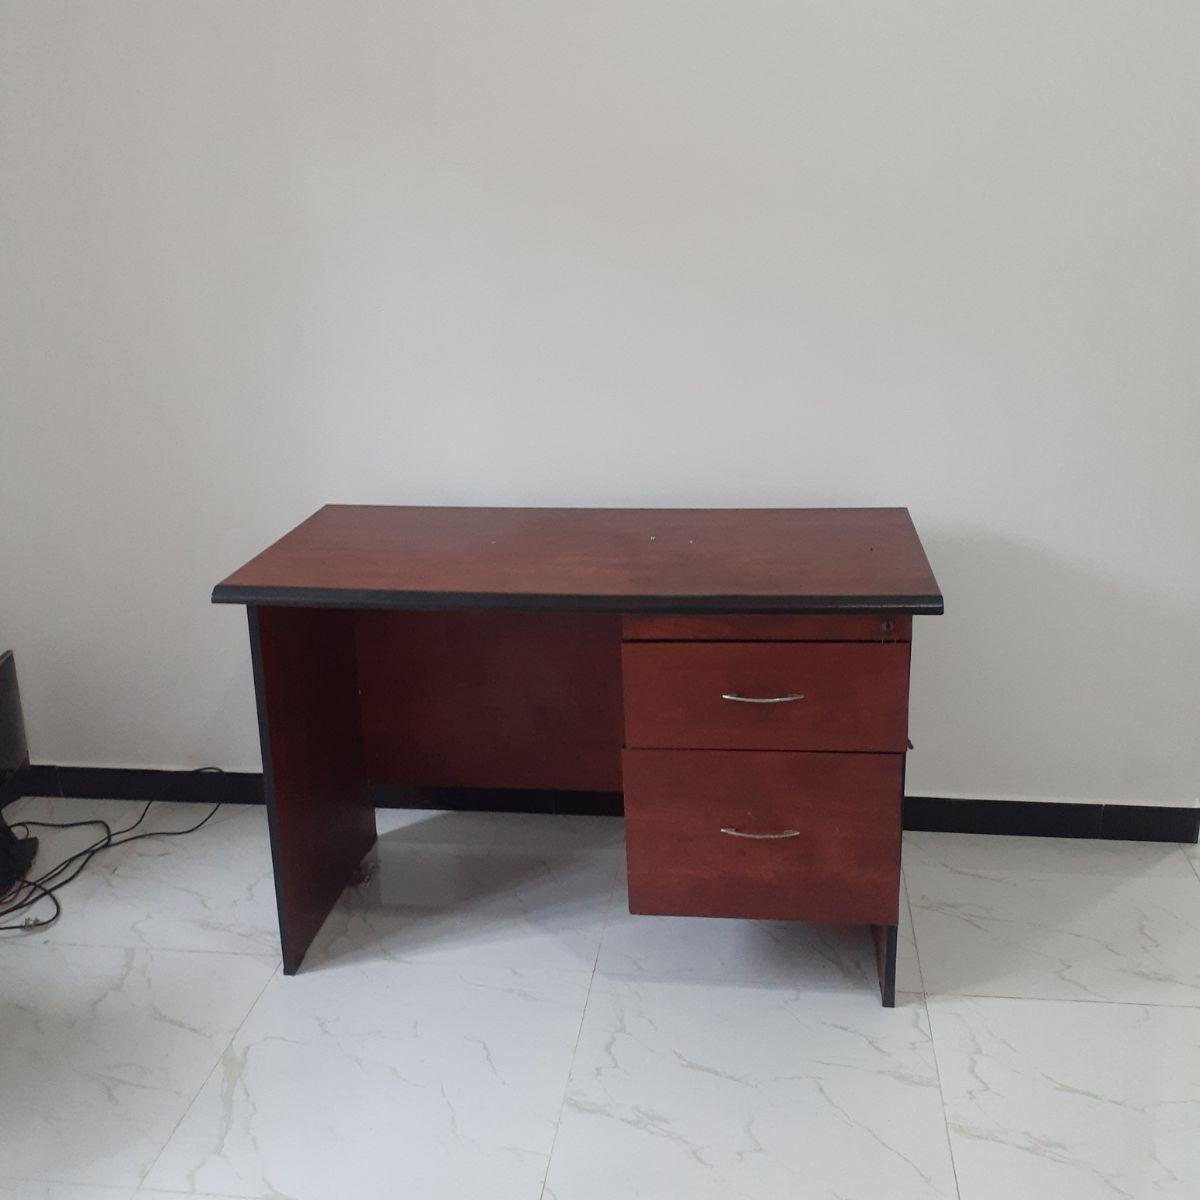Table: (205, 468, 985, 1048)
